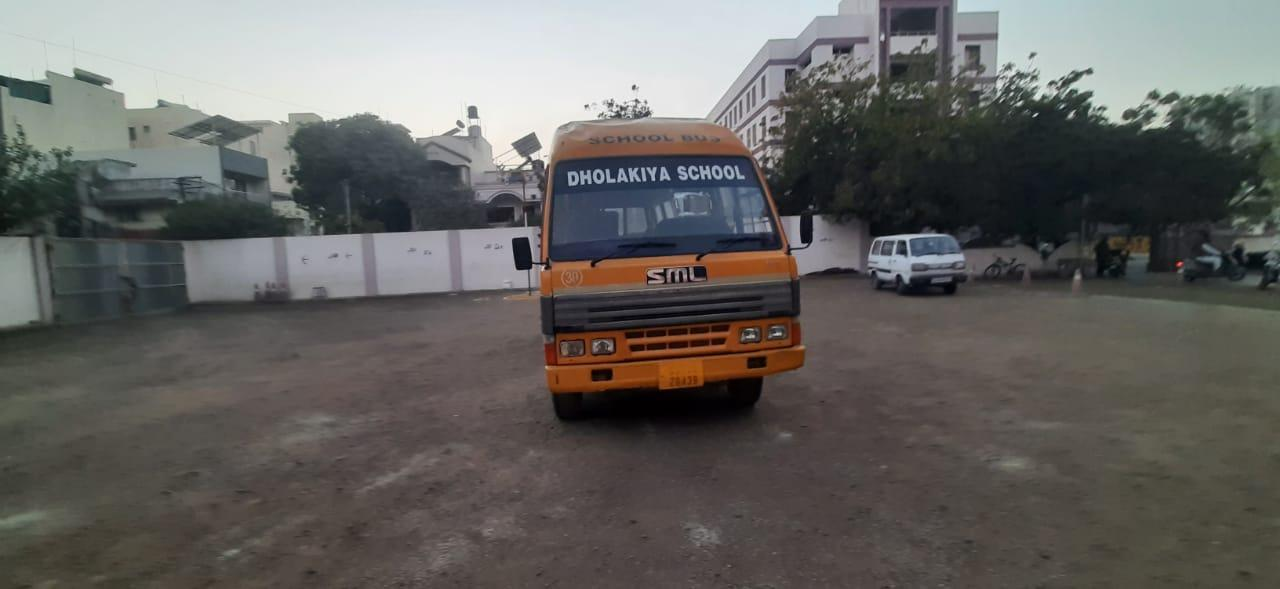Bus: (505, 104, 824, 448)
